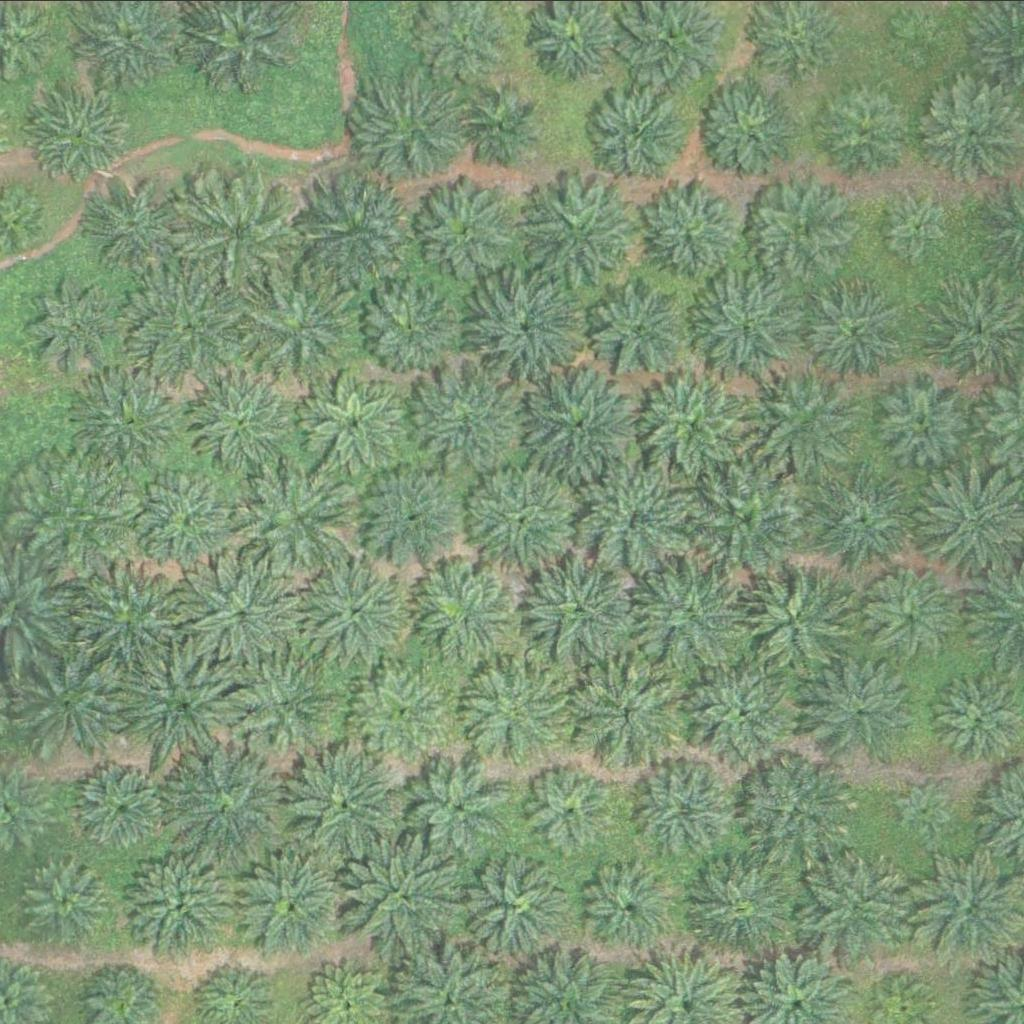Kelapa_Sawit: (18, 458, 132, 571), (181, 177, 295, 290), (355, 73, 469, 186), (809, 652, 923, 765), (123, 849, 236, 962), (239, 848, 352, 961), (172, 745, 285, 858), (290, 747, 403, 860), (462, 651, 575, 764), (571, 659, 684, 772), (72, 566, 185, 679), (134, 463, 247, 576), (241, 459, 354, 572), (355, 462, 468, 575), (409, 359, 522, 472), (519, 367, 632, 480), (694, 266, 807, 379), (640, 365, 753, 478), (639, 554, 752, 667), (738, 563, 851, 676), (690, 654, 803, 767), (575, 847, 689, 959), (66, 369, 180, 481), (181, 365, 295, 477), (133, 270, 247, 382), (241, 273, 355, 385), (294, 173, 408, 285), (409, 176, 523, 288), (744, 753, 858, 865), (687, 850, 801, 962), (21, 268, 134, 380), (15, 644, 128, 756), (345, 840, 458, 952), (458, 846, 571, 958), (130, 649, 243, 761), (232, 647, 345, 759), (191, 558, 304, 670), (302, 557, 415, 669), (526, 552, 639, 664), (469, 464, 582, 576), (581, 463, 694, 575), (462, 272, 575, 384), (527, 174, 640, 286), (751, 364, 864, 476), (691, 461, 804, 573), (803, 465, 916, 577), (800, 847, 913, 959), (28, 84, 129, 184), (407, 759, 508, 859), (353, 663, 454, 763), (413, 563, 514, 663), (300, 373, 401, 473), (591, 278, 692, 378), (87, 178, 188, 278), (694, 81, 795, 181), (813, 77, 914, 177), (921, 85, 1022, 185), (639, 181, 740, 281), (751, 180, 852, 280), (800, 280, 901, 380), (877, 370, 978, 470), (636, 756, 736, 856), (357, 277, 457, 377), (590, 88, 690, 188), (859, 566, 959, 666), (80, 760, 168, 848), (22, 857, 111, 944), (526, 763, 614, 850), (459, 90, 535, 165), (883, 192, 958, 267), (887, 8, 950, 70), (892, 779, 955, 841)
